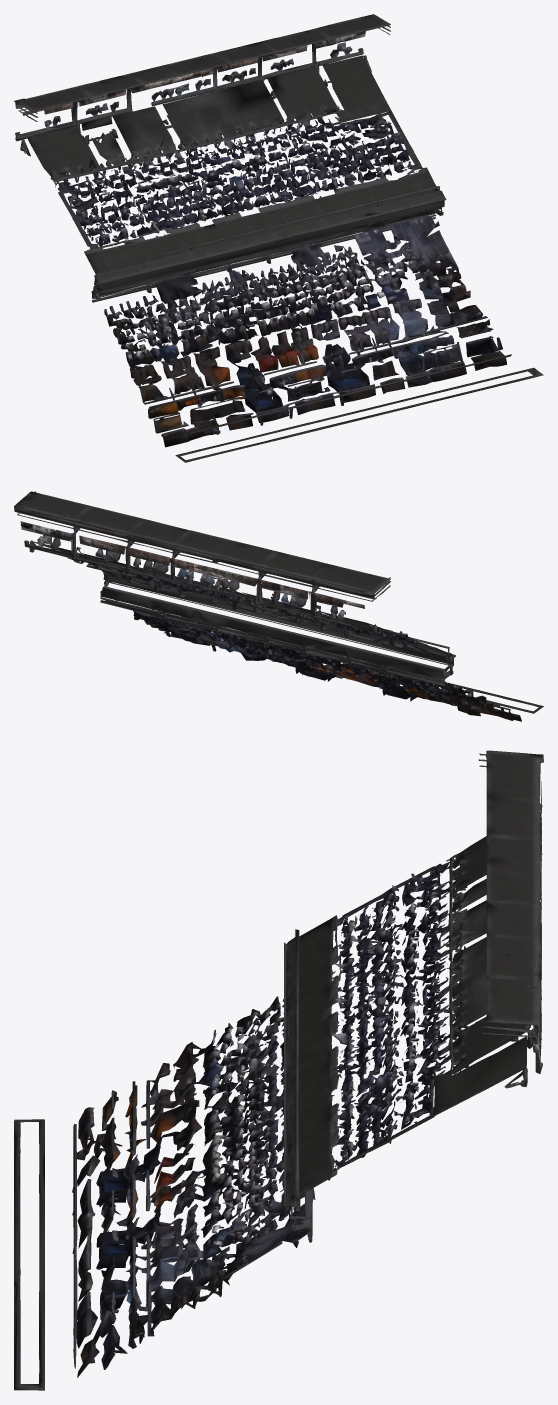
The model's file is stand-1.glb.
3 renders of one model, top to bottom at view 1: azimuth 30°, elevation 25°; view 2: azimuth 150°, elevation 25°; view 3: azimuth 270°, elevation 25°, orthographic. The views are drawn at different scales.
Parts seen in each view (by area): view 1: geometry_0; view 2: geometry_0; view 3: geometry_0.
Part boxes in pixels (left/top/right/bottom): geometry_0: left=14, top=14, right=543, bottom=462; geometry_0: left=14, top=491, right=543, bottom=721; geometry_0: left=14, top=750, right=543, bottom=1390.
Bounding box in the file's own units: 1 × 0.639 × 0.8284.
Materials: 1 (1 with a texture image).
